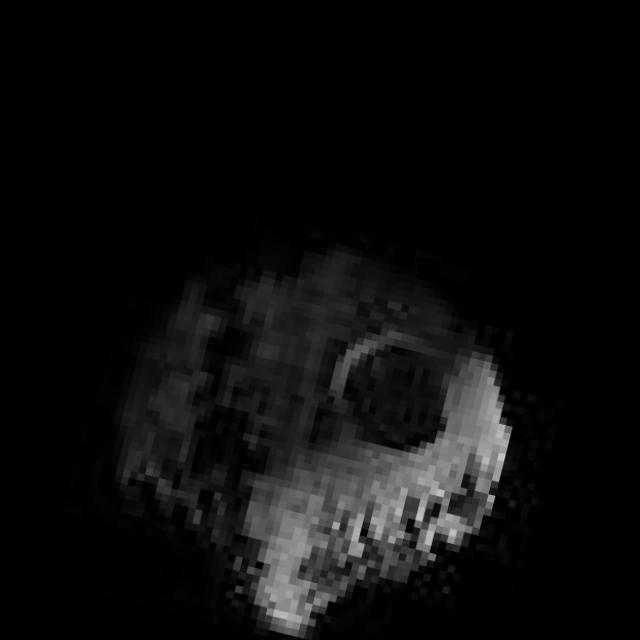Death Star: (59, 183, 562, 640)
